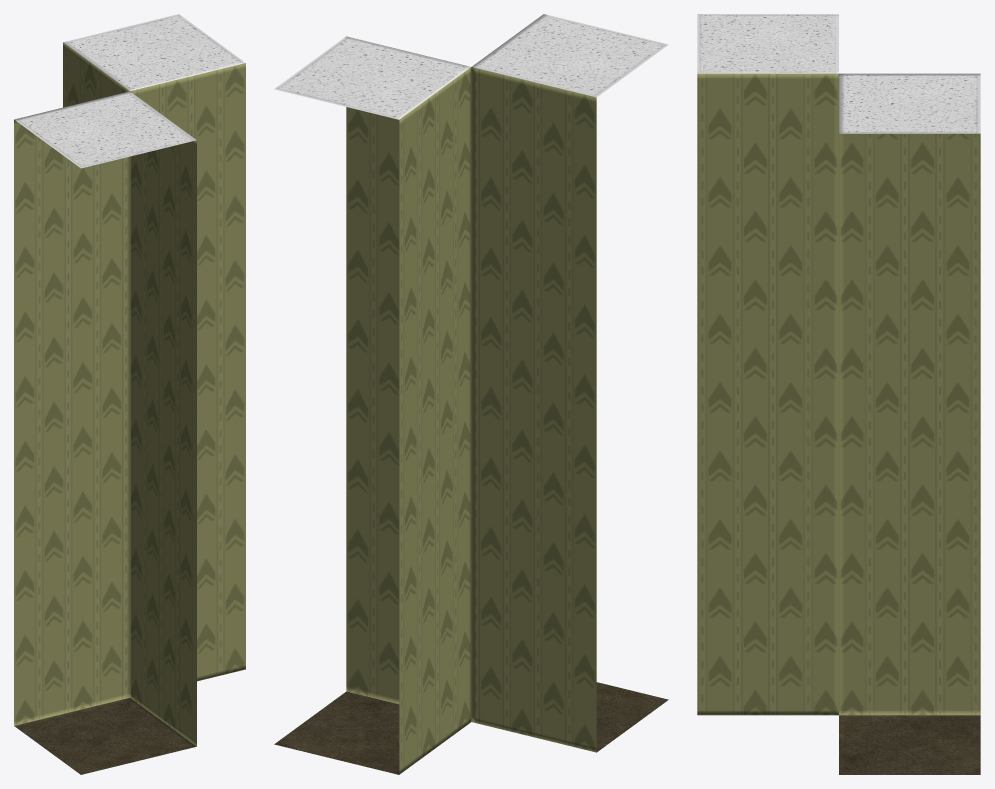
The model's file is TileKitty.gltf.
3 views of the same model, side by side, from view 1: azimuth 30°, elevation 25°; view 2: azimuth 150°, elevation 25°; view 3: azimuth 270°, elevation 25° (orthographic). The views are drawn at different scales.
Visible parts, largest first — view 1: [intangible]Kitty; view 2: [intangible]Kitty; view 3: [intangible]Kitty.
Part boxes in pixels (bbox=[...]): [intangible]Kitty: bbox=[14, 14, 245, 774]; [intangible]Kitty: bbox=[274, 14, 668, 774]; [intangible]Kitty: bbox=[697, 14, 980, 774].
Size of what is drawn, in the model's own units: 1 by 2.5 by 1.
Materials: 3 (3 with a texture image).
